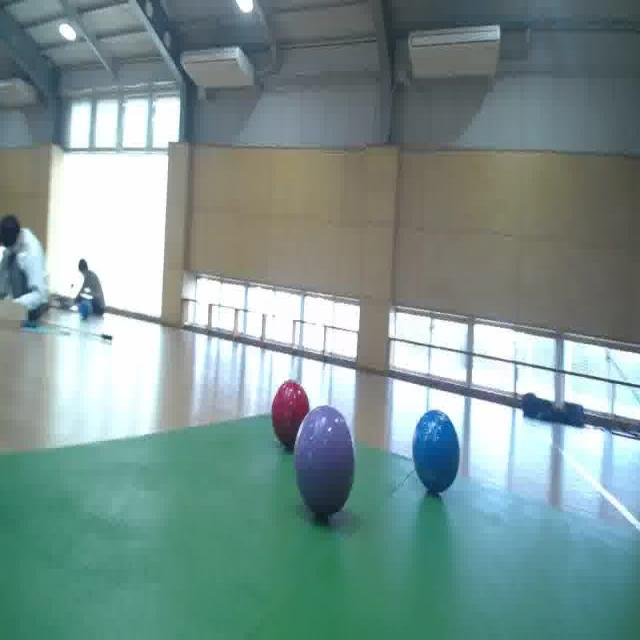blue_ball: (414, 405, 459, 493)
purple_ball: (298, 399, 358, 518)
red_ball: (274, 378, 310, 458)
